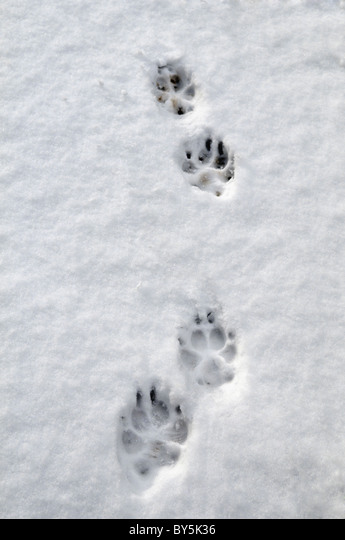chien: (113, 385, 191, 484), (175, 310, 241, 393), (172, 133, 239, 200), (149, 61, 207, 119)
